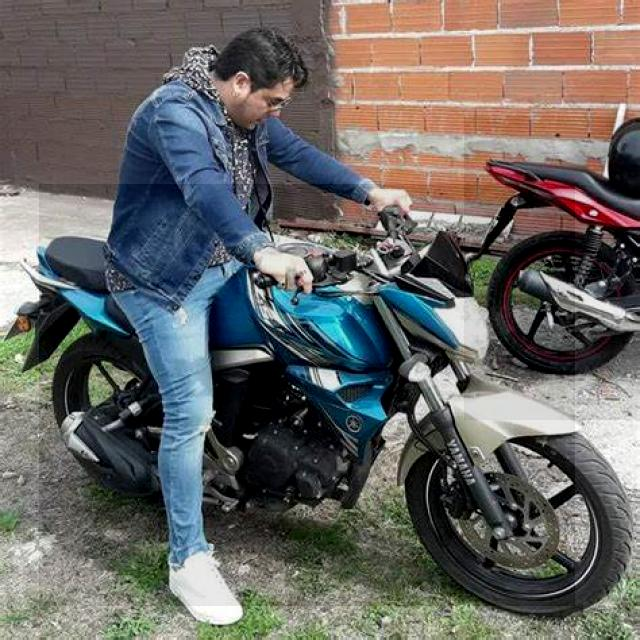Bike: (39, 184, 575, 606), (464, 116, 640, 420)
